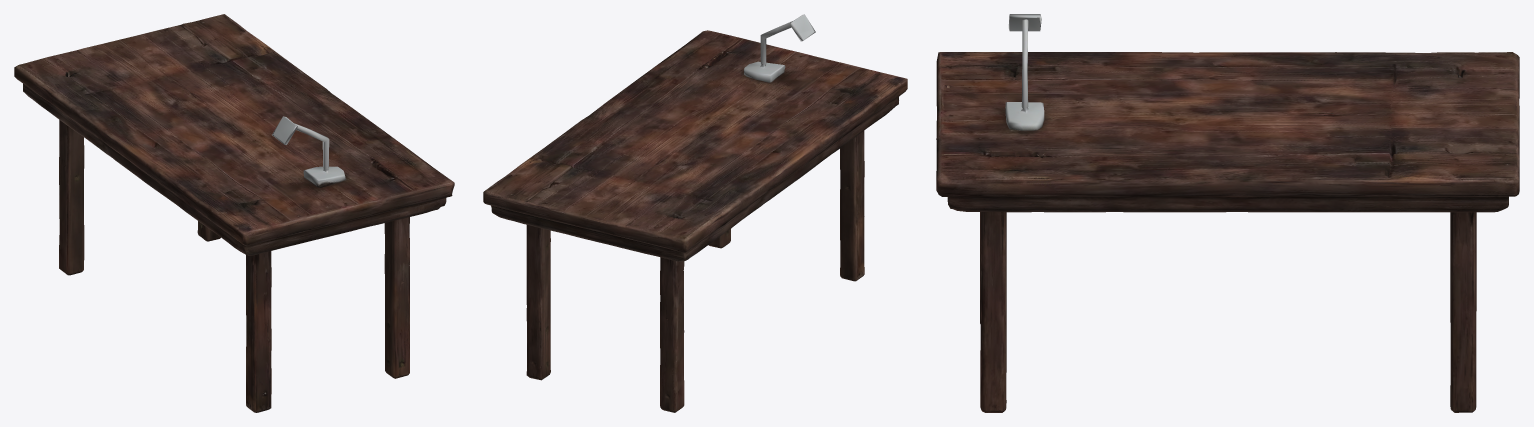
The model's file is level1-explore-desk.glb.
3 views of the same model, side by side, from view 1: azimuth 30°, elevation 25°; view 2: azimuth 150°, elevation 25°; view 3: azimuth 270°, elevation 25° (orthographic). The views are drawn at different scales.
Parts seen in each view (by area): view 1: tripo_node_85662233-af7b-4b57-b9bc-a270a22f657a; view 2: tripo_node_85662233-af7b-4b57-b9bc-a270a22f657a; view 3: tripo_node_85662233-af7b-4b57-b9bc-a270a22f657a.
Boxes of the visible parts, x1,y1,x2,y2 form: tripo_node_85662233-af7b-4b57-b9bc-a270a22f657a: [14, 14, 454, 412]; tripo_node_85662233-af7b-4b57-b9bc-a270a22f657a: [483, 14, 907, 412]; tripo_node_85662233-af7b-4b57-b9bc-a270a22f657a: [936, 14, 1519, 412].
Size of the model in its own units: 0.5186 by 0.6248 by 0.9801.
Materials: 1 (1 with a texture image).
